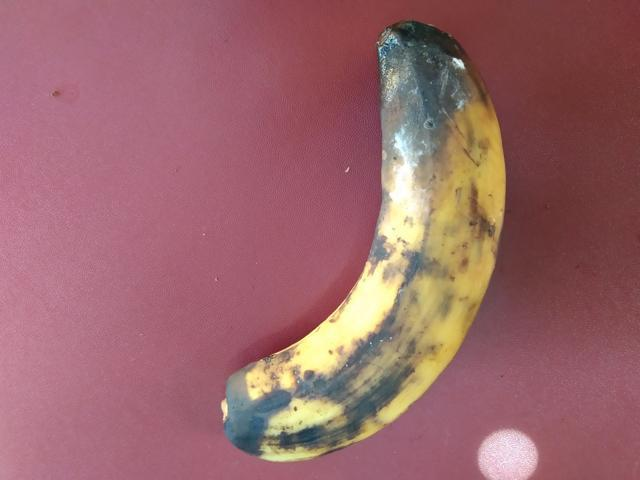rotten: (205, 10, 502, 479)
